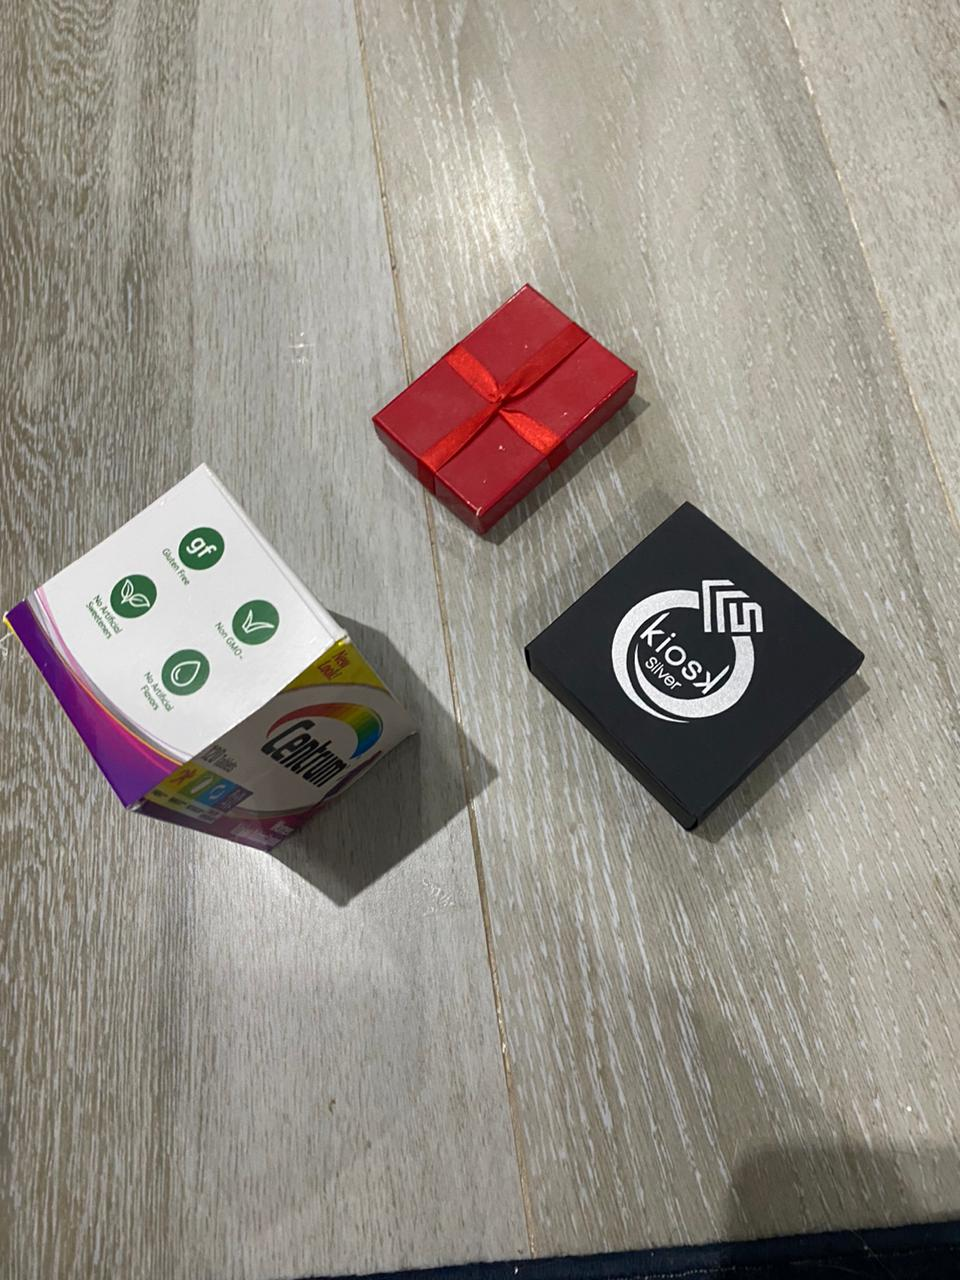Black Box: (368, 282, 643, 539)
Centrum: (4, 461, 423, 857)
Red Box: (519, 497, 872, 844)
